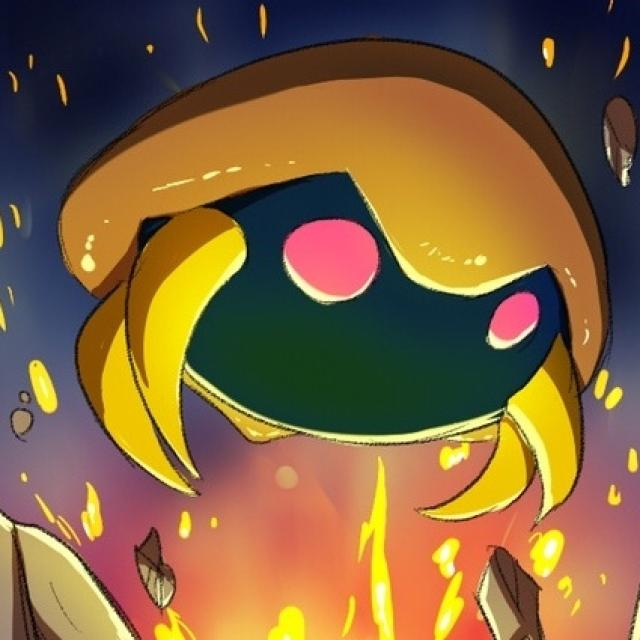Kabuto: (49, 35, 623, 500)
